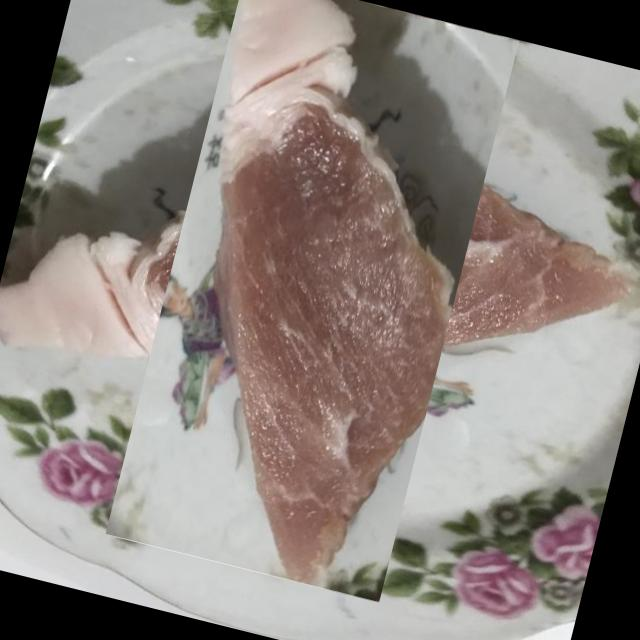chicken: (46, 2, 586, 542)
